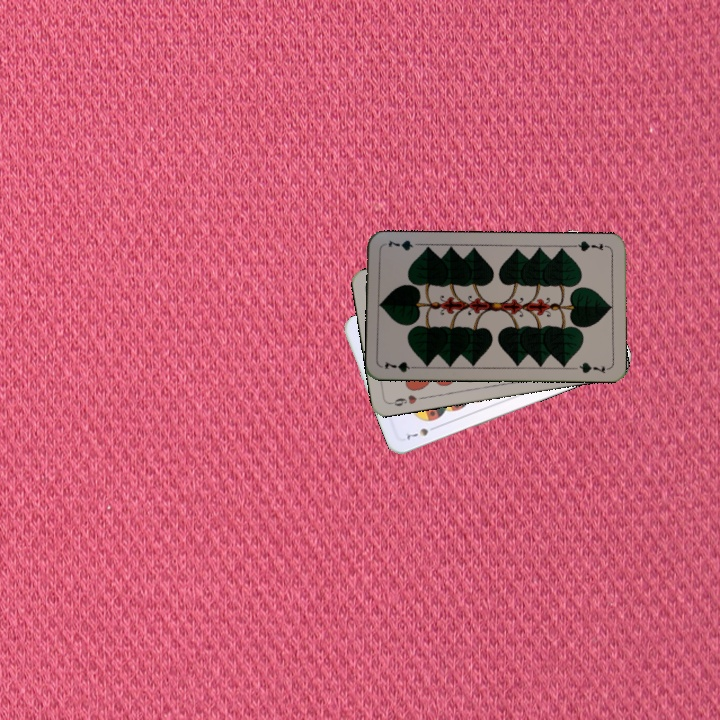G7: (380, 357, 421, 375), (570, 237, 611, 253)
H9: (386, 391, 427, 409)
S7: (402, 422, 440, 442)
